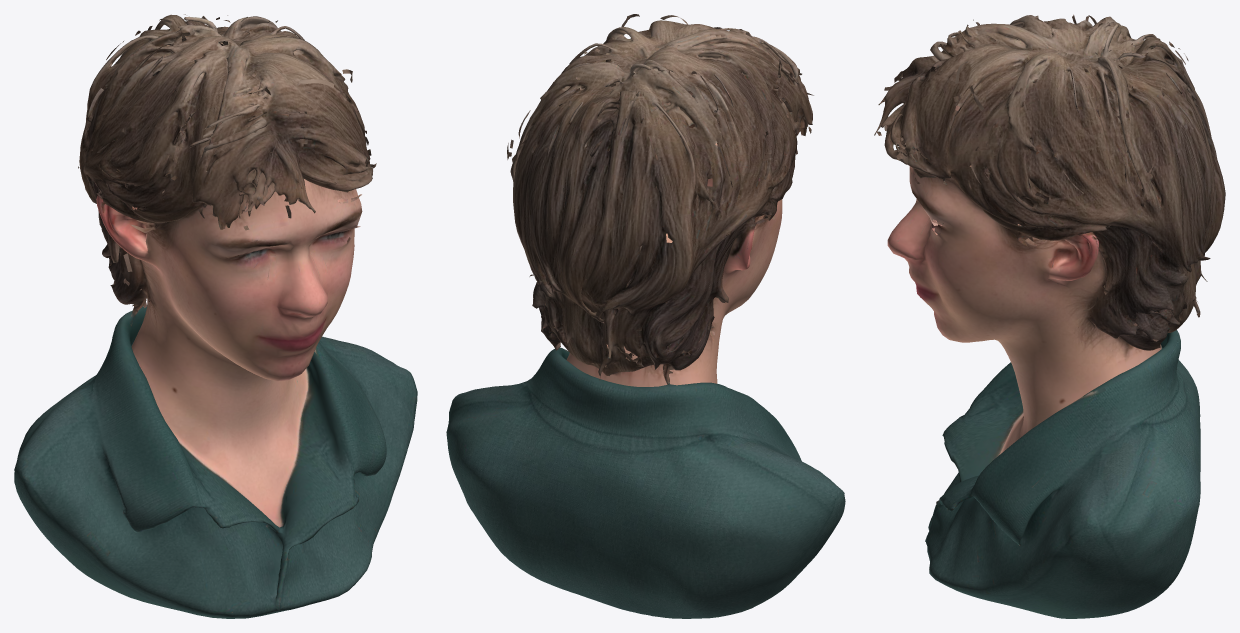
The model's file is head.glb.
3 renders of one model, left to right at view 1: azimuth 30°, elevation 25°; view 2: azimuth 150°, elevation 25°; view 3: azimuth 270°, elevation 25°, orthographic.
Bounding box in the file's own units: 1.38 × 1.89 × 1.07.
1 material, 1 textured.
